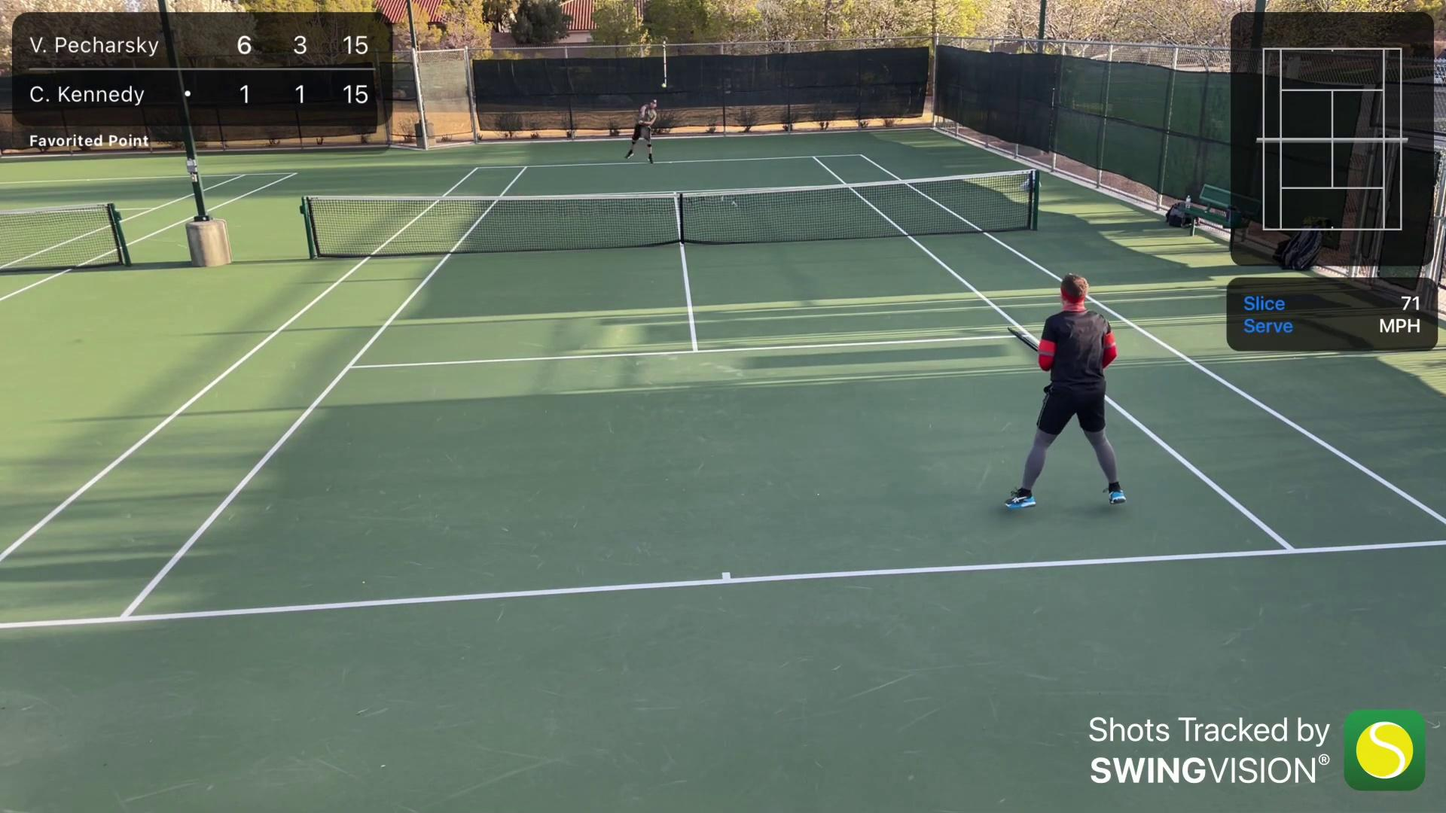ball: (661, 82, 668, 90)
